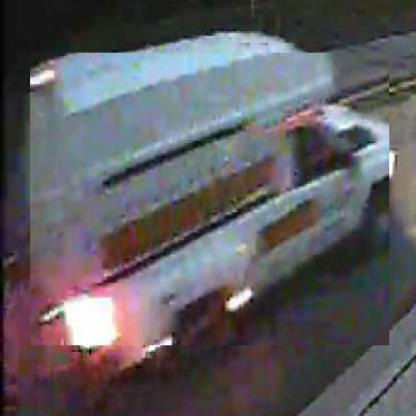car: (31, 54, 391, 348)
